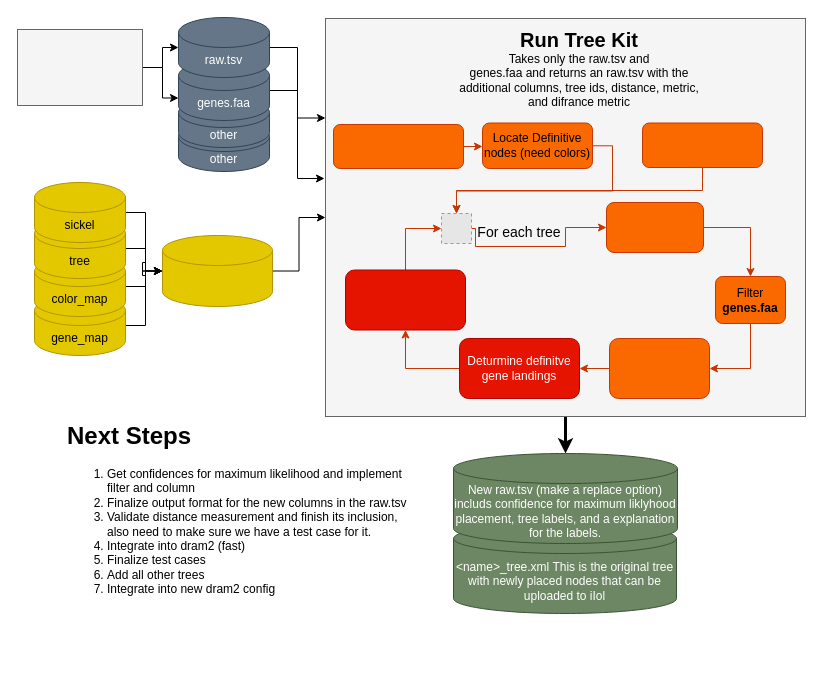
Image size: 823x694. Some labels were removed from this diagram. Grey dashed boxes stand in for pictures. Here are the shapes that lost their labels. From the top down, the centre of each, then its label:
(x=79, y=67): Run DRAM with no additional arguments
(x=398, y=146): Read in trees, packeged with the kit
(x=702, y=145): Read in raw.tsv
(x=655, y=227): Find genes that need to be clarified
(x=217, y=270): One Tree: for example nar nax tree
(x=405, y=299): Check Distances for more hits
(x=659, y=368): Run pplace on genes.faa
